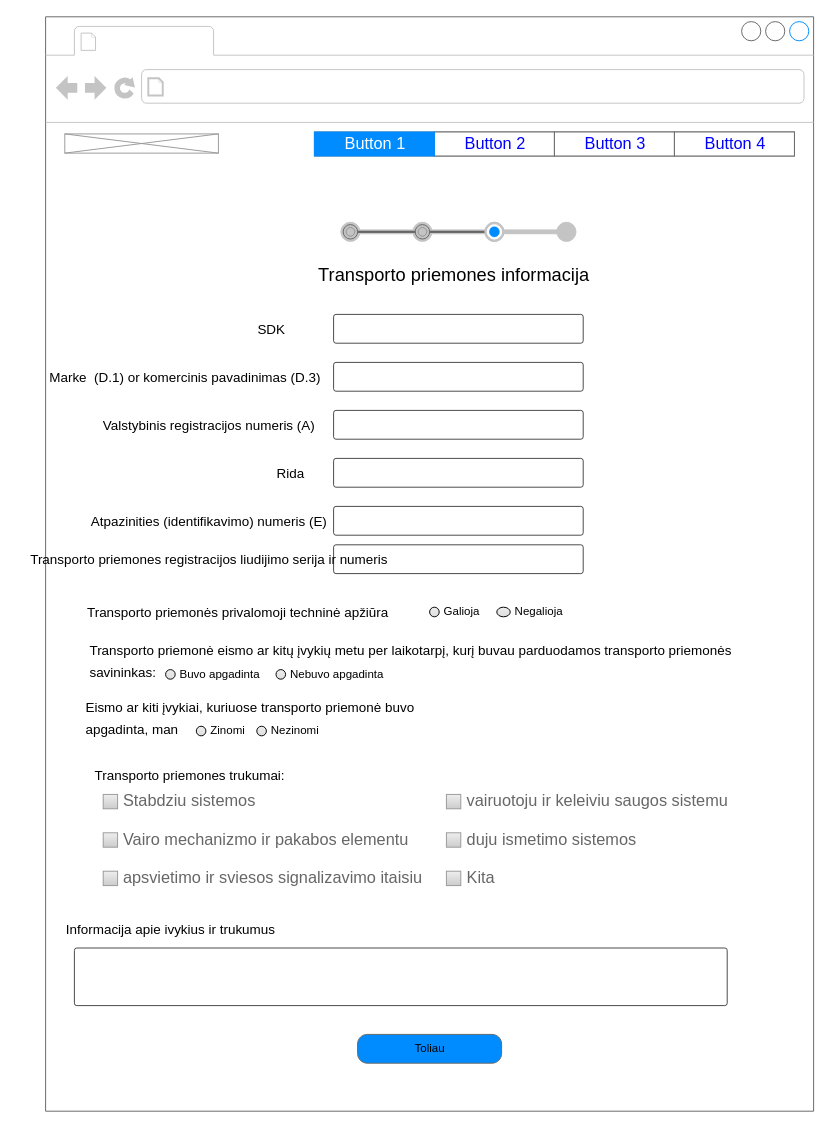
The diagram is 830 pixels wide and 1128 high, and some of its shapes have lost their labels. The shapes that lost their labels are listed below. From the top down, each one's centre as x and y in pixels, then its label:
the point at 155,40: Page 1
the point at 289,86: https://www.draw.io
the point at 457,222: Layer 1 Layer 2 Layer 3 Layer 4
